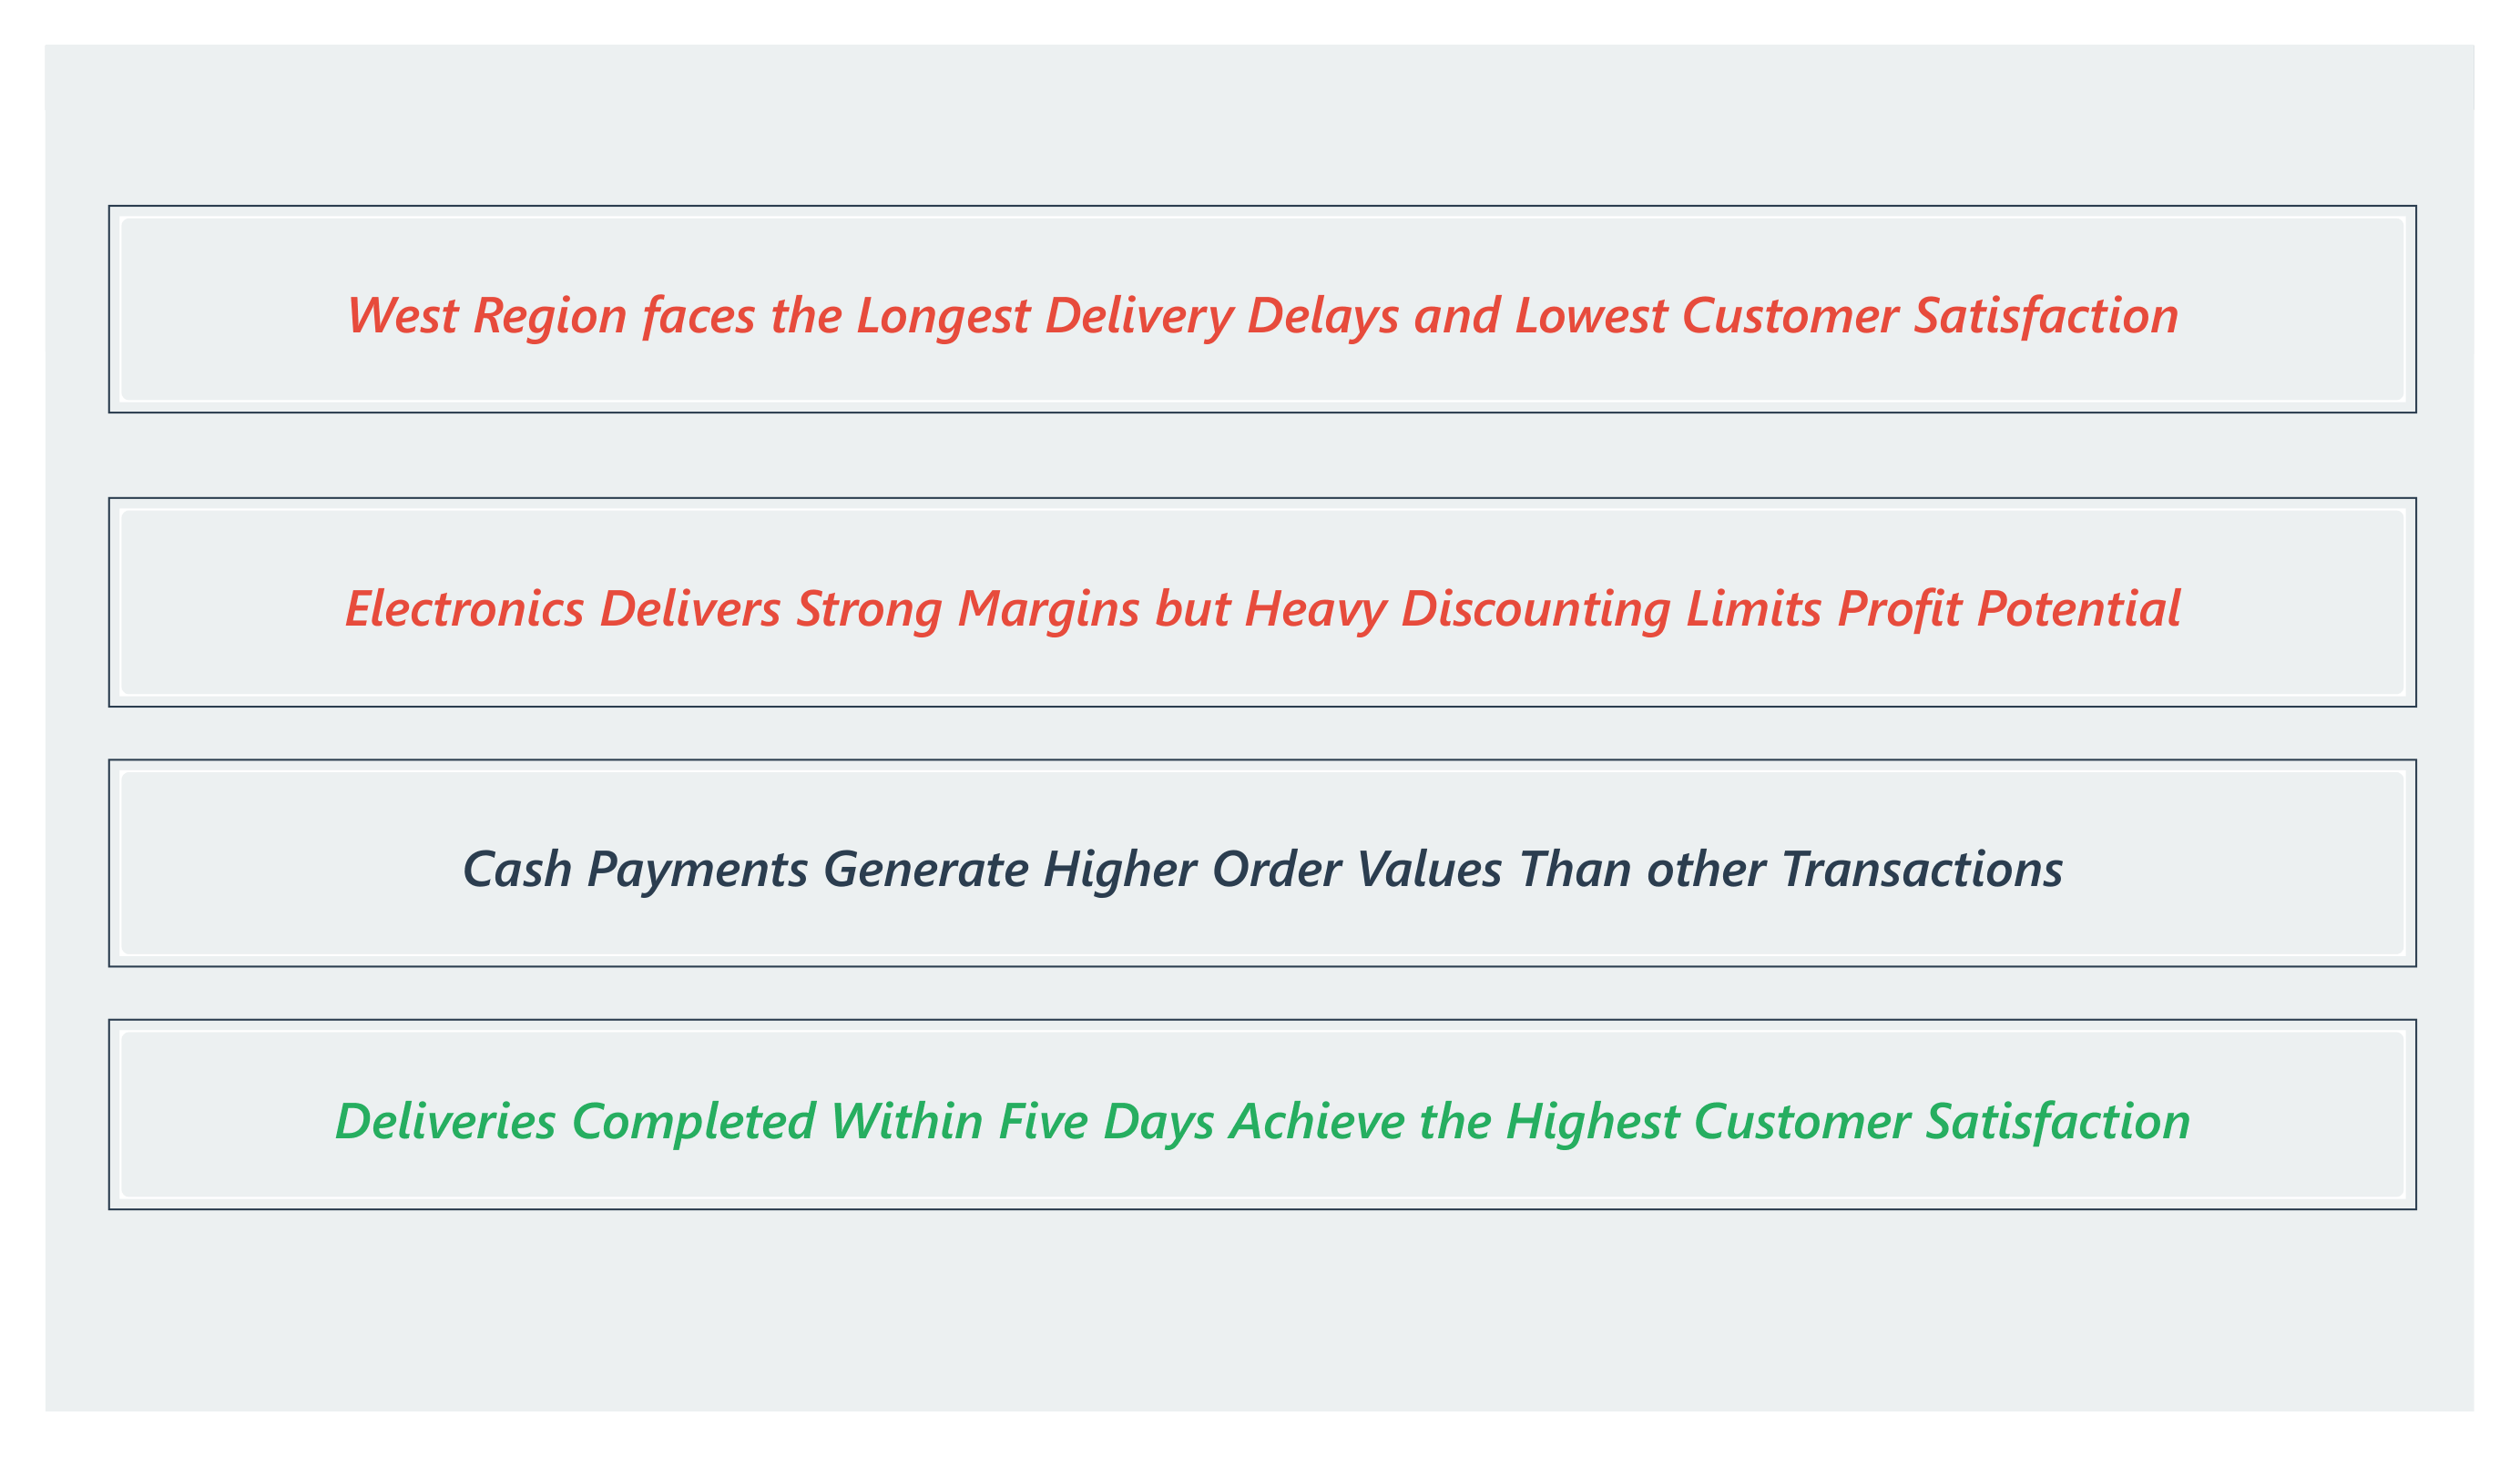

Layout of this report page (visuals, bound fields, positions):
{"tool":"powerbi","page":{"name":"Executive Recommendations","canvas":[1280,720],"ordinal":3},"visuals":[{"type":"cardVisual","fields":{"Data":["For Page 4 DAX.Card Insight 1"]},"box":[32.6,83.6,1217.5,110.6],"z":0},{"type":"cardVisual","fields":{"Data":["For Page 4 DAX.Card Insight 2"]},"box":[32.6,238.1,1217.5,110.6],"z":1000},{"type":"cardVisual","fields":{"Data":["For Page 4 DAX.Card Insight 3"]},"box":[32.6,375.6,1217.5,110.6],"z":2000},{"type":"cardVisual","fields":{"Data":["For Page 4 DAX.Card Insight 4"]},"box":[32.6,513.1,1217.5,100.6],"z":3000}]}

Visuals, with their boxes on the page's 1280x720 design canvas (x1, y1, x2, y2). These are canvas units, not pixel positions in the 2520x1457 screenshot, which may show the page scaled, cropped or inside an application window:
cardVisual - For Page 4 DAX.Card Insight 1: [x1=33, y1=84, x2=1250, y2=194]
cardVisual - For Page 4 DAX.Card Insight 2: [x1=33, y1=238, x2=1250, y2=349]
cardVisual - For Page 4 DAX.Card Insight 3: [x1=33, y1=376, x2=1250, y2=486]
cardVisual - For Page 4 DAX.Card Insight 4: [x1=33, y1=513, x2=1250, y2=614]
